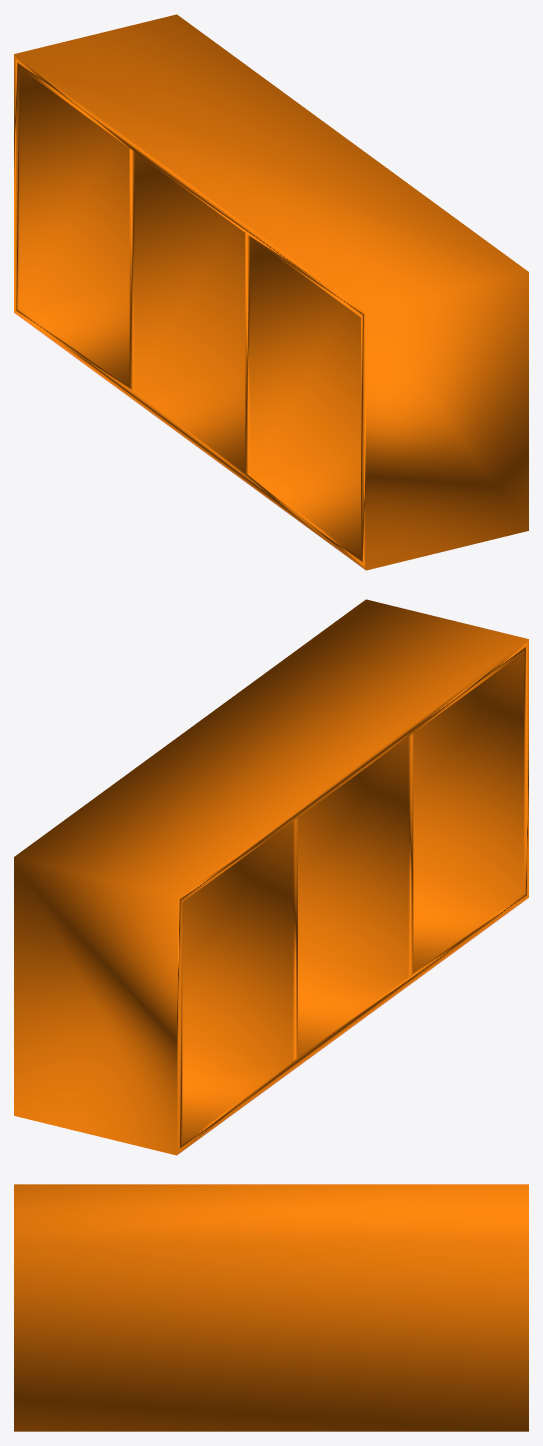
File: bookshelf4.dae
3 renders of one model, top to bottom at view 1: azimuth 30°, elevation 25°; view 2: azimuth 150°, elevation 25°; view 3: azimuth 270°, elevation 25°, orthographic. The views are drawn at different scales.
Visible parts, largest first — view 1: transform1; view 2: transform1; view 3: transform1.
Boxes of the visible parts, x1,y1,x2,y2 form: transform1: (14,14,528,570); transform1: (14,599,528,1155); transform1: (14,1184,528,1431).
Bounding box in the file's own units: 0.29 × 0.44 × 1.09.
1 material, 1 textured.
